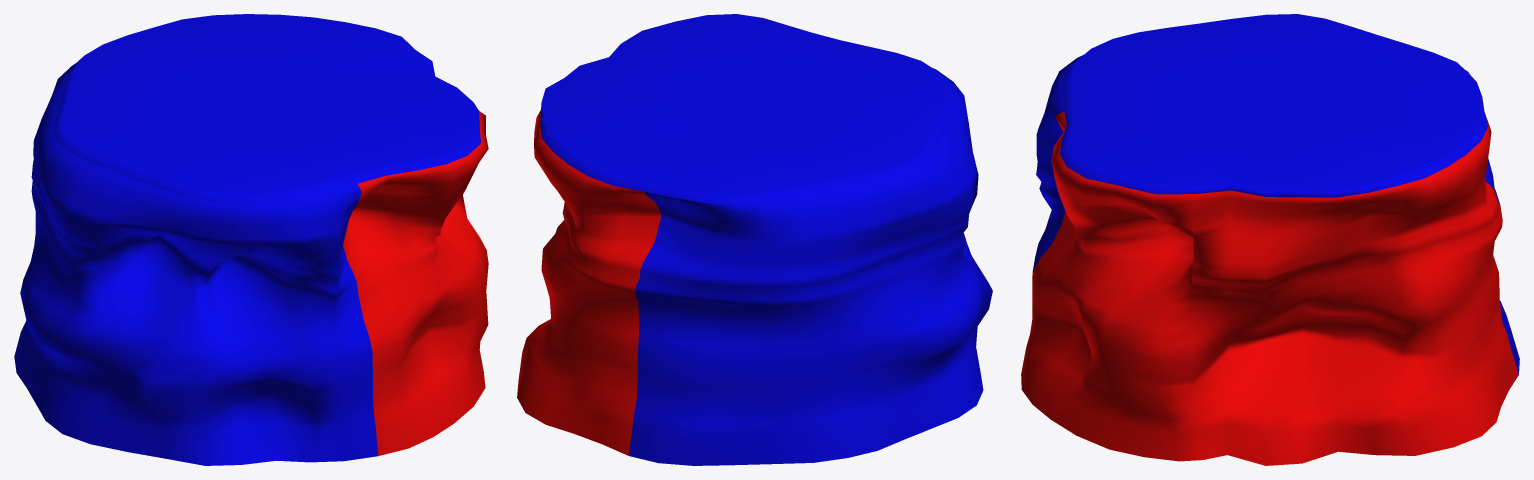
The model's file is Level01_map.fbx.
The picture shows the model from 3 angles, left to right: view 1: azimuth 30°, elevation 25°; view 2: azimuth 150°, elevation 25°; view 3: azimuth 270°, elevation 25°; orthographic projection. The views are drawn at different scales.
Parts seen in each view (by area): view 1: Base_LOW; view 2: Base_LOW; view 3: Base_LOW.
Boxes of the visible parts, bbox=[...] form: Base_LOW: bbox=[14, 14, 488, 465]; Base_LOW: bbox=[517, 14, 992, 465]; Base_LOW: bbox=[1021, 14, 1519, 465].
Bounding box in the file's own units: 12802 × 8294 × 13232.
